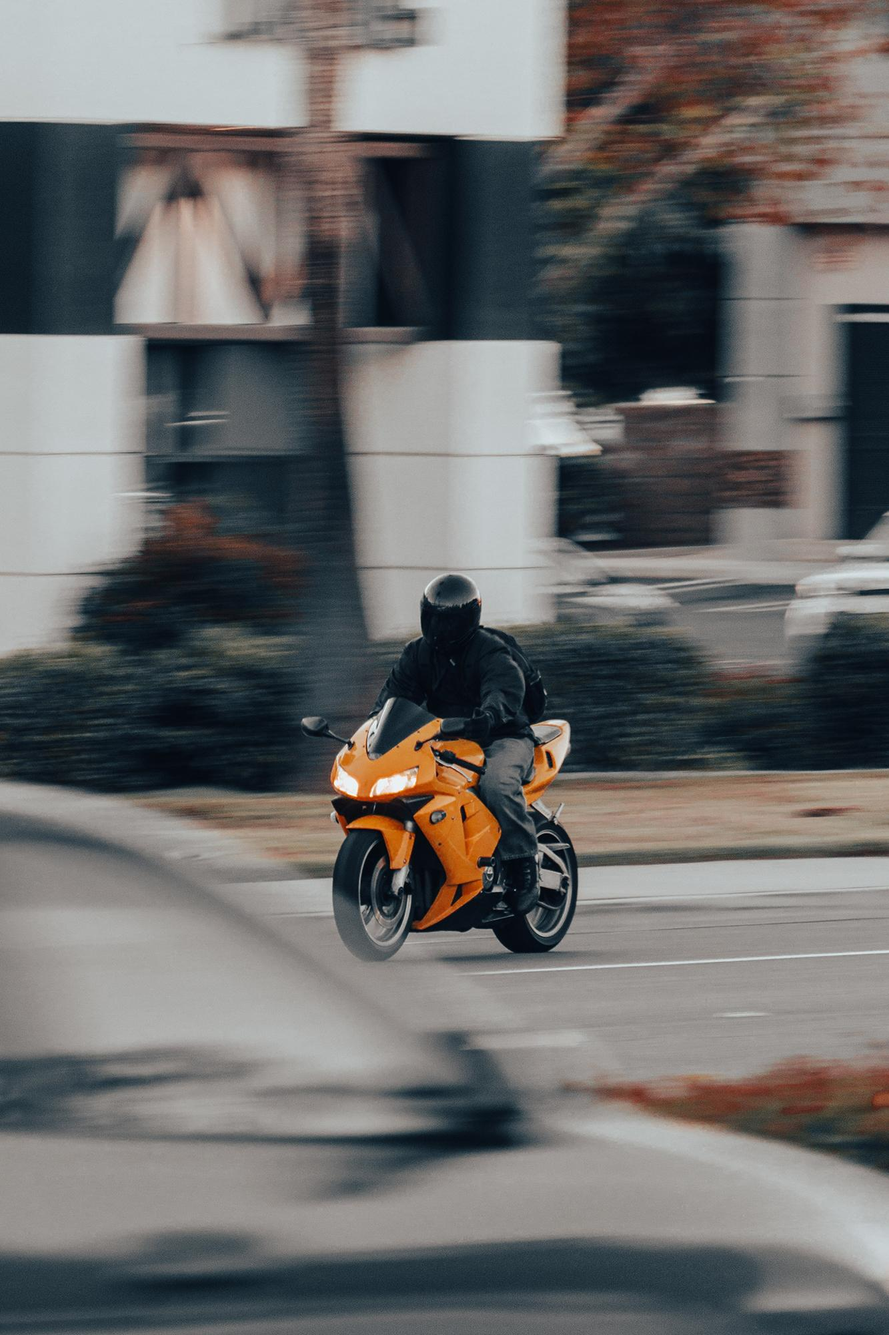helmet: (419, 571, 483, 654)
